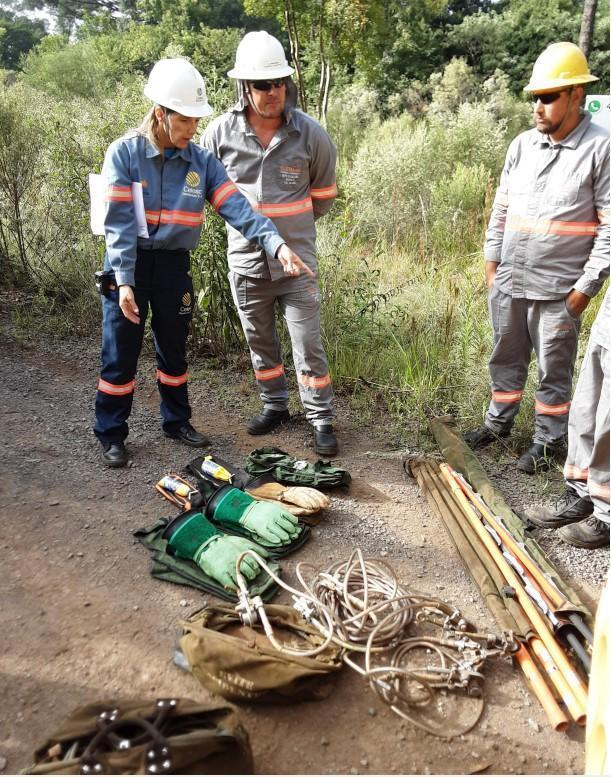helmet: (524, 40, 599, 132), (142, 55, 212, 149), (227, 28, 293, 117)
